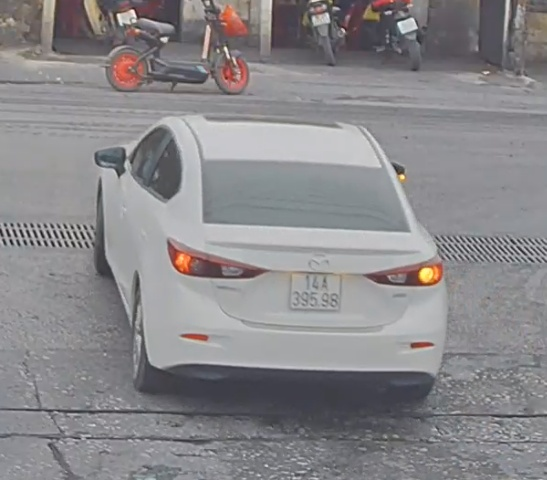vehicle plate: (286, 267, 342, 312)
